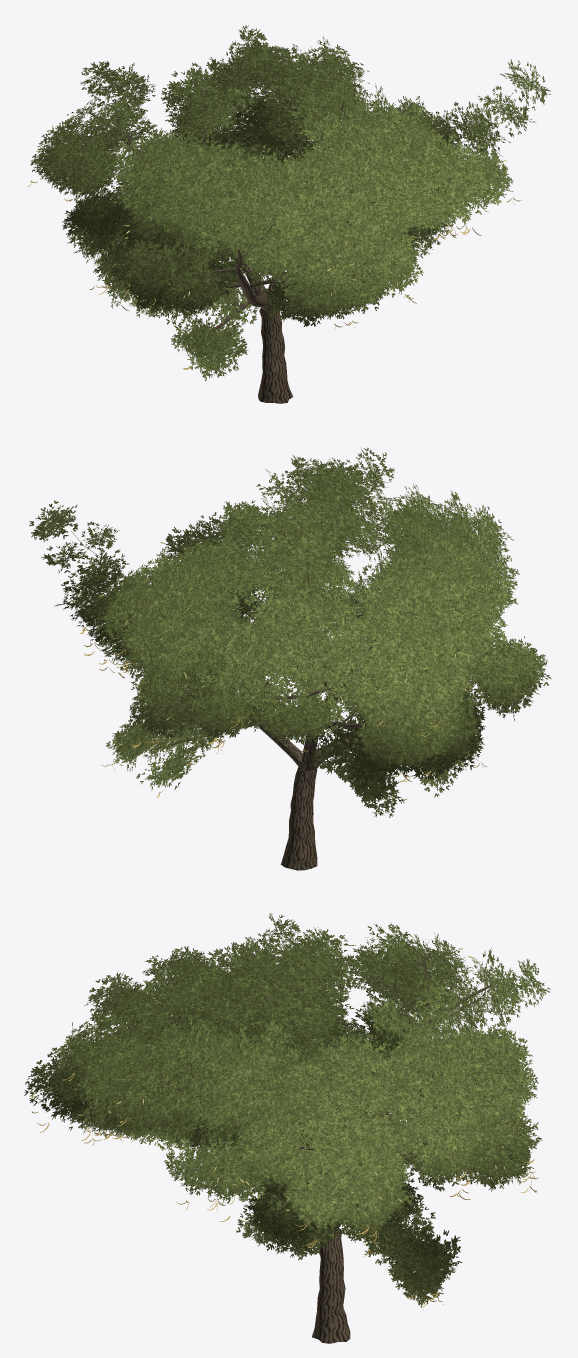
File: adult-c.lod0.glb
3 renders of one model, top to bottom at view 1: azimuth 30°, elevation 25°; view 2: azimuth 150°, elevation 25°; view 3: azimuth 270°, elevation 25°, orthographic. The views are drawn at different scales.
Visible parts, largest first — view 1: foliage, bark, fruit; view 2: foliage, bark, fruit; view 3: foliage, bark, fruit.
Boxes of the visible parts, x1=… form: foliage: x1=30, y1=25, x2=550, y2=380; bark: x1=79, y1=56, x2=513, y2=403; fruit: x1=27, y1=79, x2=521, y2=369; foliage: x1=29, y1=447, x2=551, y2=817; bark: x1=71, y1=471, x2=500, y2=870; fruit: x1=78, y1=495, x2=539, y2=814; foliage: x1=24, y1=913, x2=550, y2=1307; bark: x1=68, y1=939, x2=505, y2=1343; fruit: x1=31, y1=987, x2=538, y2=1307.
Size of the model in its own units: 11.8 by 7.5 by 10.43.
5 materials, 2 textured.
